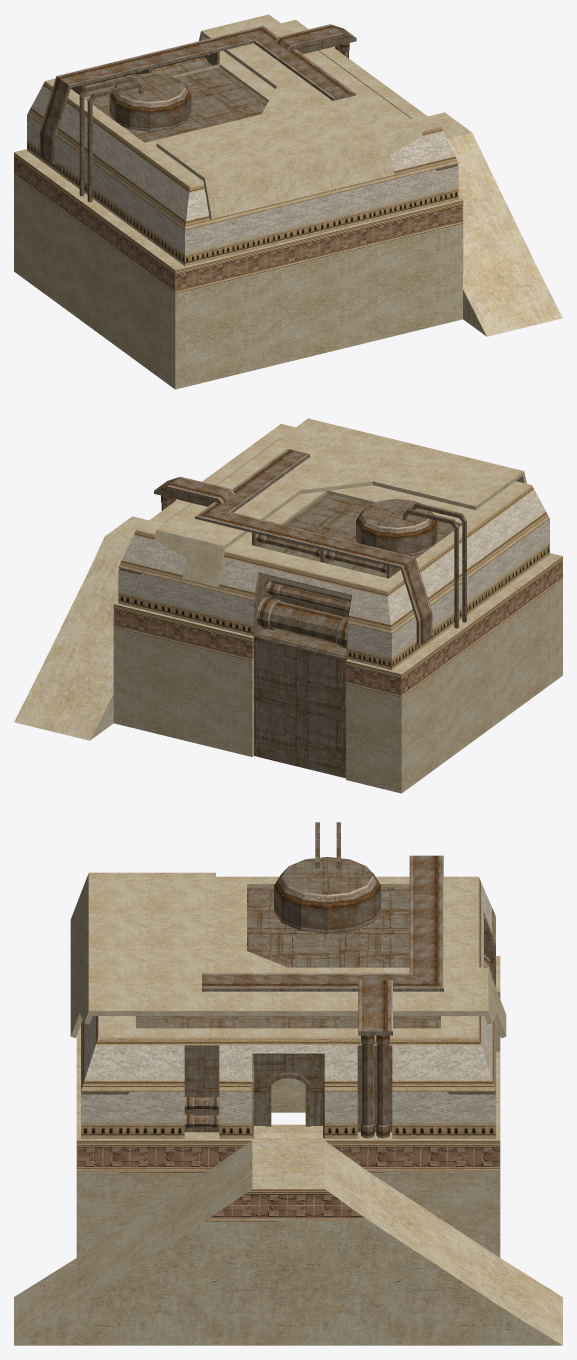
File: ply_tato_cloning_facility_s01_r0_mesh_l0.fbx
3 renders of one model, top to bottom at view 1: azimuth 30°, elevation 25°; view 2: azimuth 150°, elevation 25°; view 3: azimuth 270°, elevation 25°, orthographic. The views are drawn at different scales.
Visible parts, largest first — view 1: mesh_node; view 2: mesh_node; view 3: mesh_node.
Boxes of the visible parts, x1=… form: mesh_node: x1=14, y1=14, x2=562, y2=389; mesh_node: x1=14, y1=418, x2=562, y2=793; mesh_node: x1=14, y1=822, x2=562, y2=1345.
Size of the model in its own units: 31.9 by 18.93 by 31.75.
